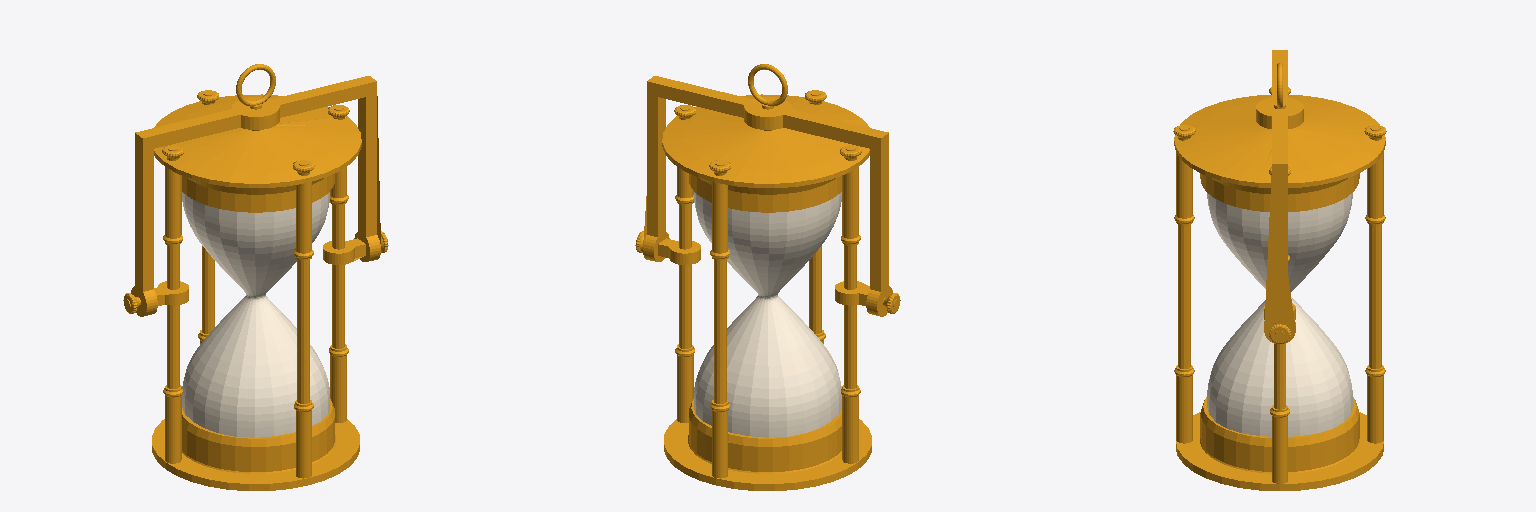
Rendered from Hourglass.obj.
3 renders of one model, left to right at view 1: azimuth 30°, elevation 25°; view 2: azimuth 150°, elevation 25°; view 3: azimuth 270°, elevation 25°, orthographic.
Parts seen in each view (by area): view 1: Hourglass.obj; view 2: Hourglass.obj; view 3: Hourglass.obj.
Part boxes in pixels (x1,y1,x2,y2): Hourglass.obj: (123, 64, 388, 490); Hourglass.obj: (635, 64, 900, 490); Hourglass.obj: (1173, 50, 1386, 490).
Bounding box in the file's own units: 1.87 × 2.65 × 1.34.